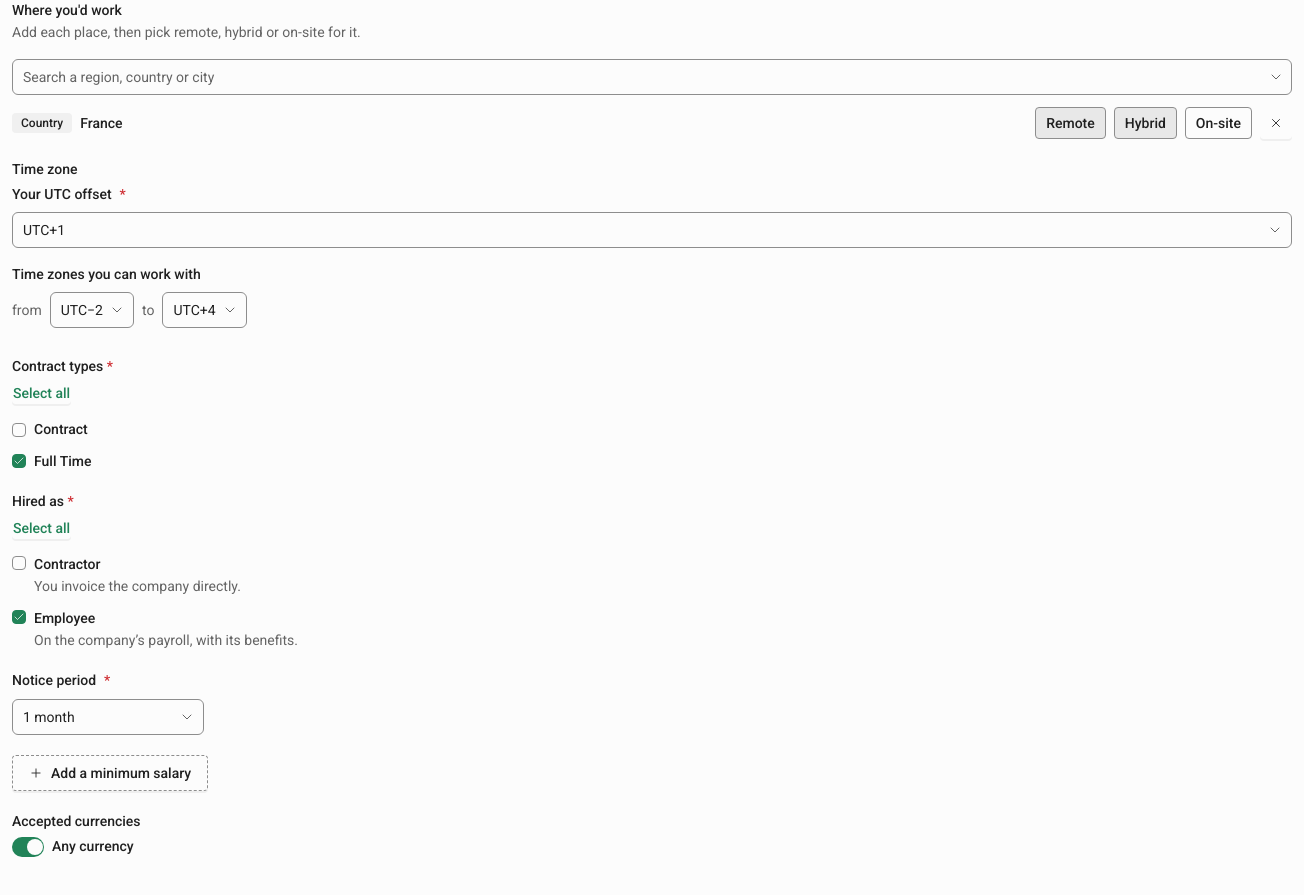
Scenario: TermsForm › salary stays collapsed and is omitted until opened
This screenshot has width=1304, height=895.
Later steps or results of the test are not shown.
Check: the number field labelled "Amount" is not shown
Submit the form
Click the button "Add a minimum salary" at (110, 772), box [12,754,208,790]
(page scrolled)
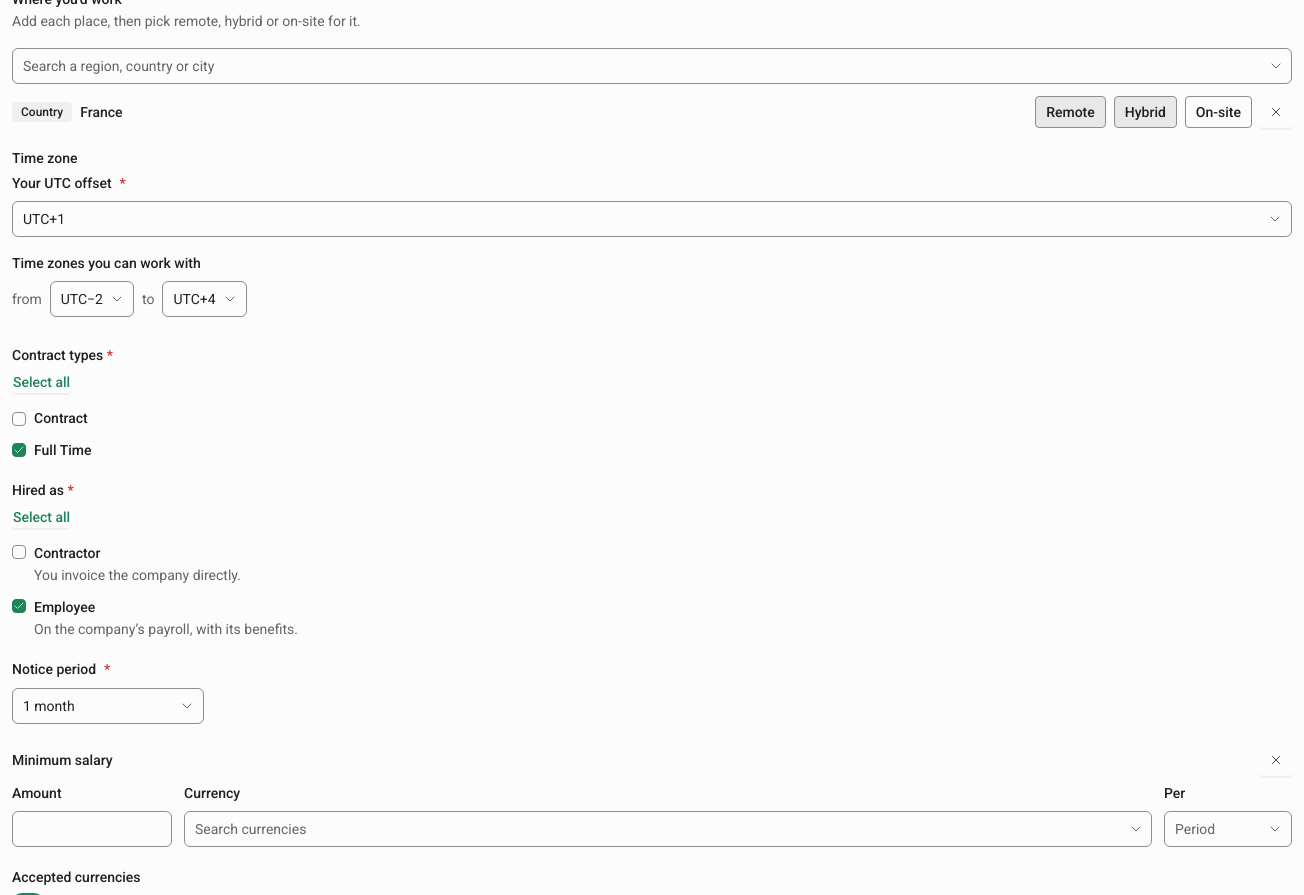
Check: the number field labelled "Amount" is shown, box [12,811,172,847]
Submit the form
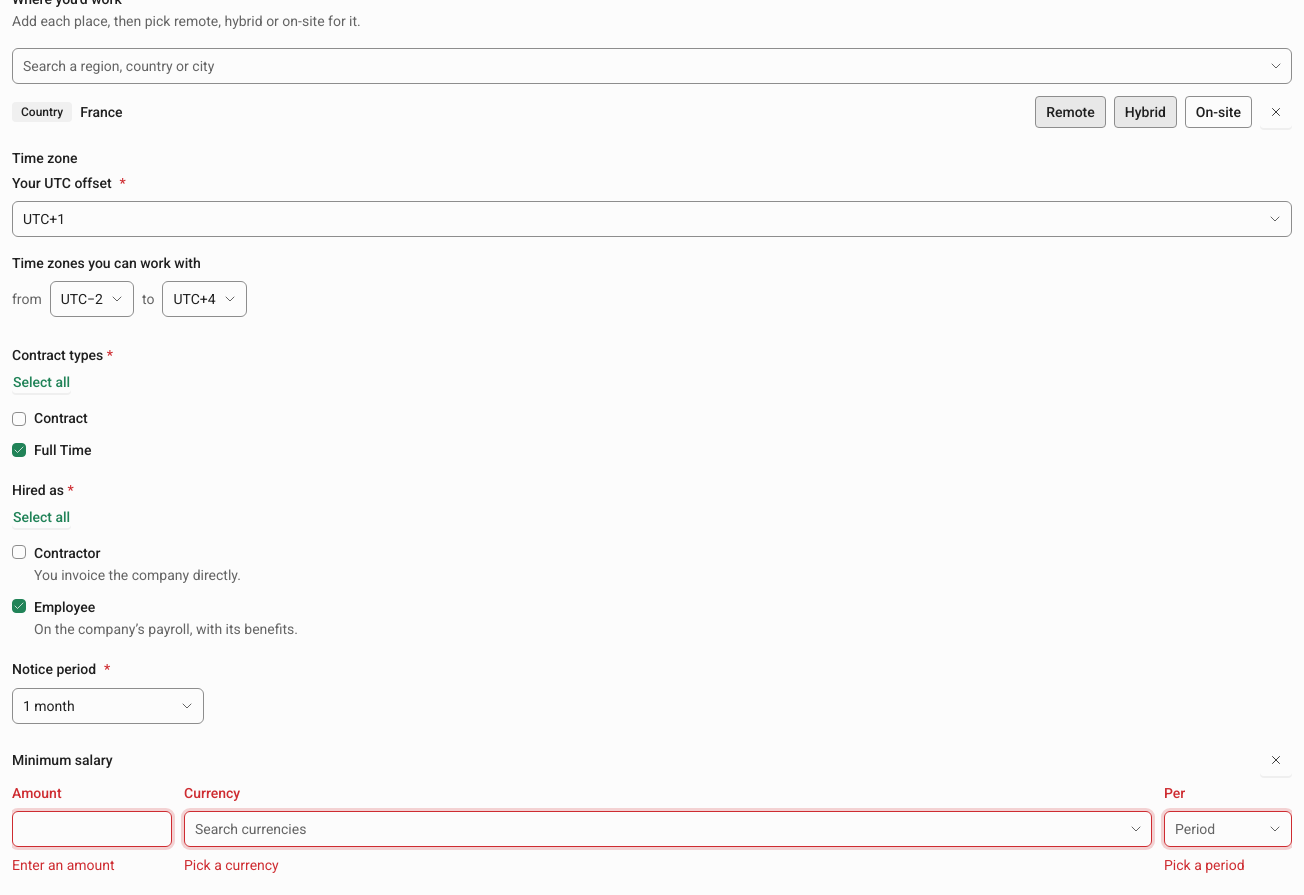
Check: the text "Enter an amount" is shown, box [12,857,115,873]
Check: the text "Pick a currency" is shown, box [184,857,279,873]
Check: the text "Pick a period" is shown, box [1164,857,1244,873]
Click the button named "Remove minimum salary" at (1276, 760), box [1260,744,1292,776]
(page scrolled)
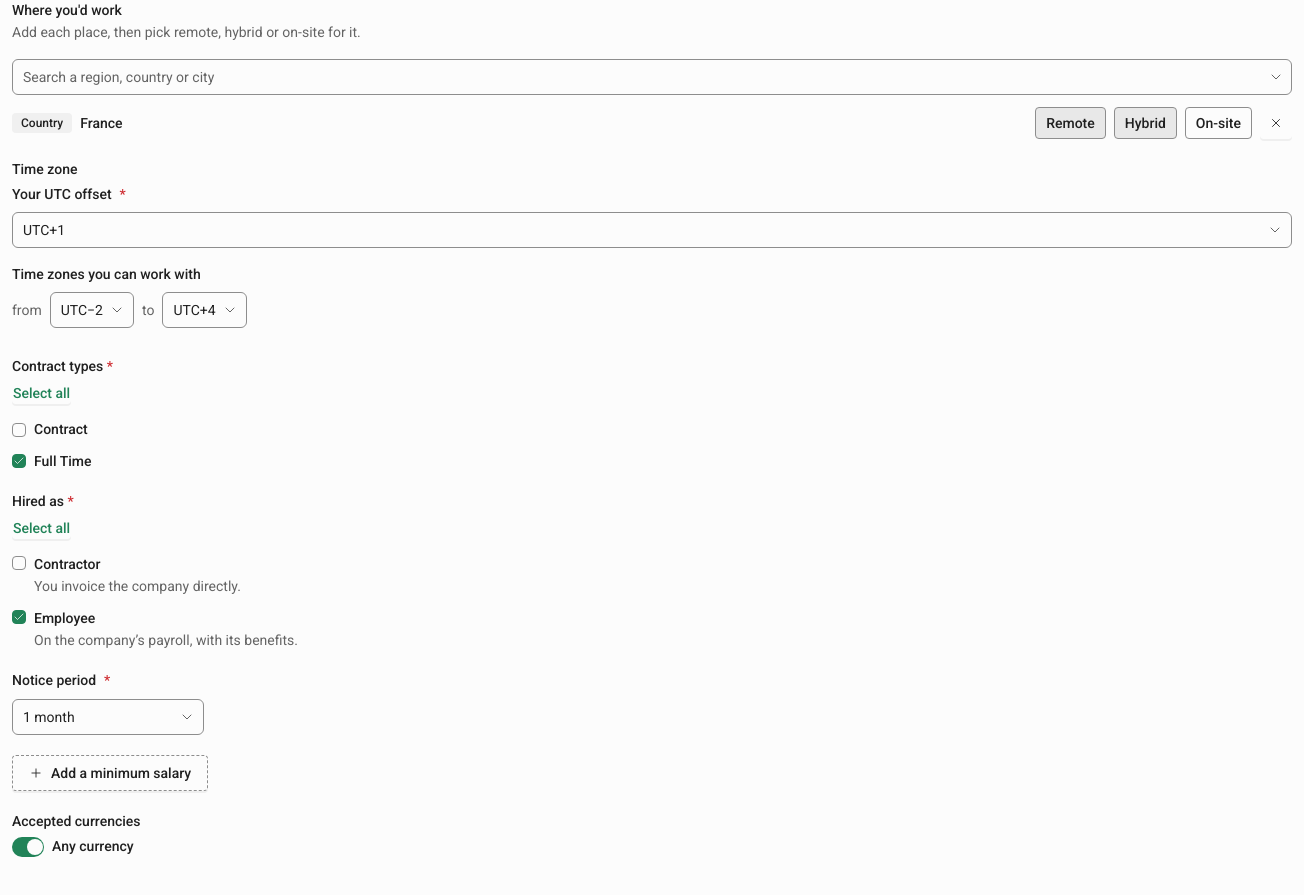
Check: the label "Amount" is gone
